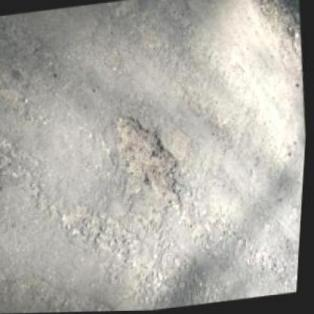Hueco: (111, 107, 190, 216)
